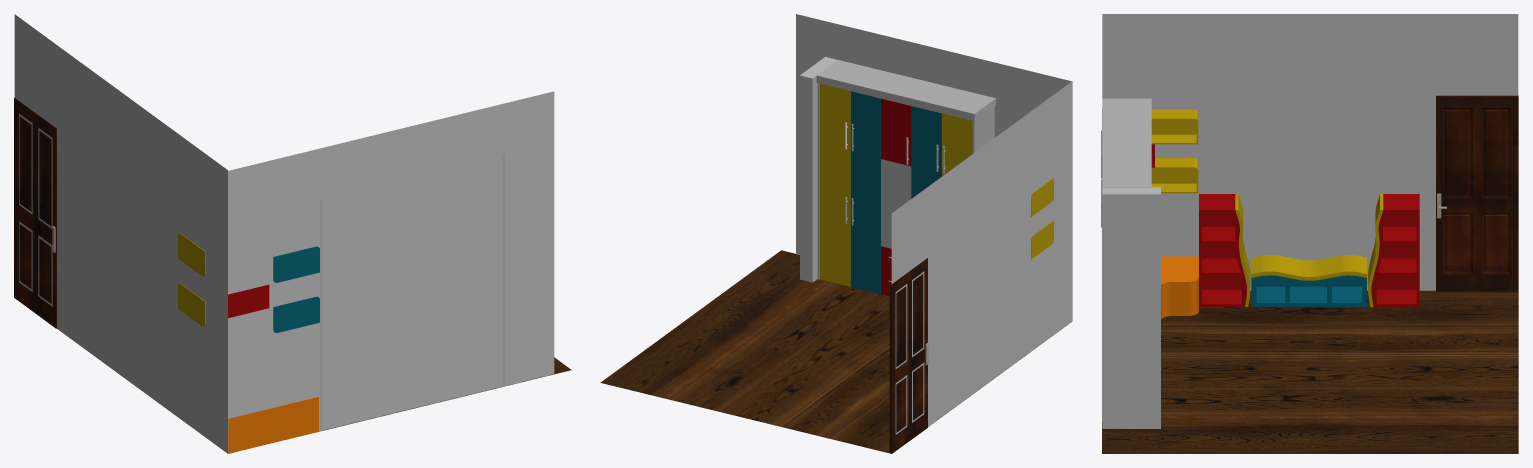
The model's file is just_a_room.glb.
3 views of the same model, side by side, from view 1: azimuth 30°, elevation 25°; view 2: azimuth 150°, elevation 25°; view 3: azimuth 270°, elevation 25° (orthographic). The views are drawn at different scales.
Parts seen in each view (by area): view 1: Plane.002, Plane.001, defaultMaterial_Dark cherrywood_0, Cube, defaultMaterial.002_Dark cherrywood_0, defaultMaterial.003_Dark cherrywood_0, Cube.049, Cube.048, Cube.046, Cube.050, Cube.051, Cube.001 (+1 smaller); view 2: Plane.001, Plane, Plane.002, Cube.039, Cube.004, Cube.003, Cube.047, defaultMaterial_Dark cherrywood_0, Cube.010, defaultMaterial.002_Dark cherrywood_0, Cube.009, Cube.011 (+9 smaller); view 3: Plane.001, Plane, Cube.047, defaultMaterial_Dark cherrywood_0, defaultMaterial.002_Dark cherrywood_0, Cube.040, Cube.041, Cube.039, defaultMaterial.003_Dark cherrywood_0, Cube.045, Cube.044, Cube (+4 smaller).
Part boxes in pixels (x1,y1,x2,y2): Plane.002: (228, 91, 554, 453); Plane.001: (14, 14, 227, 453); defaultMaterial_Dark cherrywood_0: (14, 97, 56, 328); Cube: (179, 397, 318, 453); defaultMaterial.002_Dark cherrywood_0: (18, 112, 52, 230); defaultMaterial.003_Dark cherrywood_0: (18, 220, 52, 307); Cube.049: (273, 246, 319, 282); Cube.048: (273, 296, 319, 332); Cube.046: (228, 284, 269, 318); Cube.050: (178, 283, 205, 326); Cube.051: (178, 233, 205, 276); Cube.001: (320, 198, 322, 431); Plane.001: (891, 81, 1072, 434); Plane: (600, 250, 1071, 453); Plane.002: (796, 14, 1071, 254); Cube.039: (816, 60, 995, 121); Cube.004: (850, 152, 880, 293); Cube.003: (820, 144, 850, 286); Cube.047: (800, 57, 837, 282); defaultMaterial_Dark cherrywood_0: (889, 258, 927, 453); Cube.010: (881, 98, 911, 166); defaultMaterial.002_Dark cherrywood_0: (895, 270, 924, 370); Cube.009: (850, 91, 880, 158); Cube.011: (911, 106, 941, 173); Plane.001: (1102, 14, 1518, 289); Plane: (1102, 290, 1518, 453); Cube.047: (1102, 187, 1160, 428); defaultMaterial_Dark cherrywood_0: (1436, 95, 1518, 291); defaultMaterial.002_Dark cherrywood_0: (1442, 108, 1510, 198); Cube.040: (1371, 194, 1419, 306); Cube.041: (1199, 194, 1246, 306); Cube.039: (1102, 98, 1151, 187); defaultMaterial.003_Dark cherrywood_0: (1442, 213, 1510, 274); Cube.045: (1251, 275, 1366, 306); Cube.044: (1251, 255, 1366, 280); Cube: (1161, 256, 1198, 319).
Bounding box in the file's own units: 10.24 × 8.04 × 10.99.
Materials: 11 (3 with a texture image).
